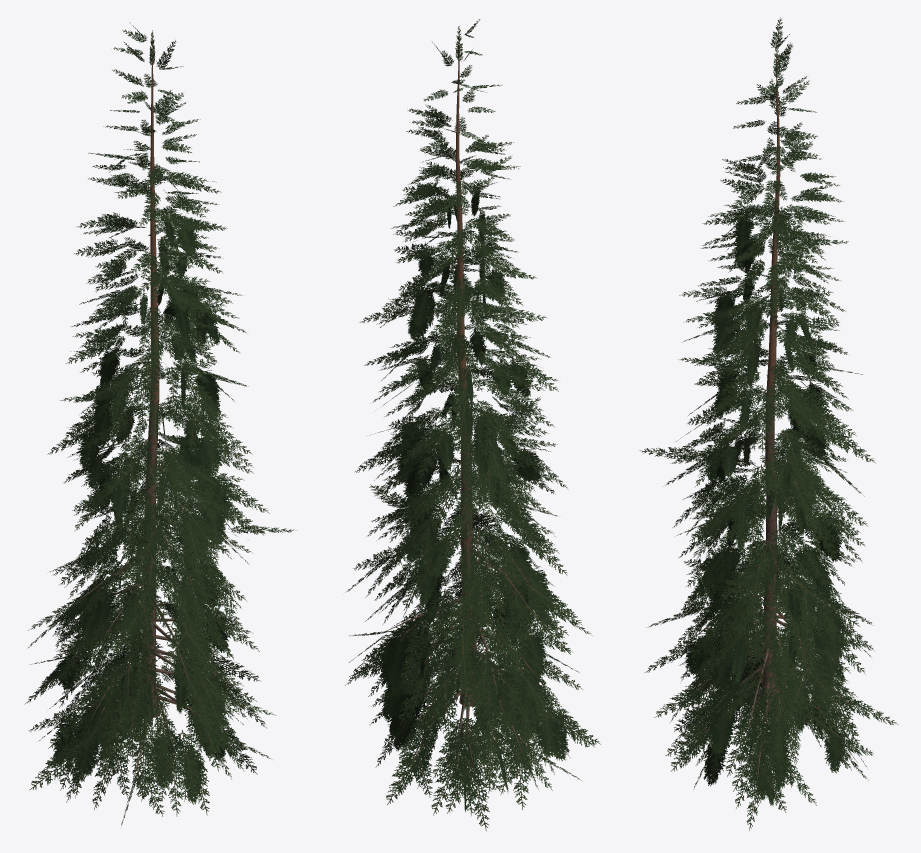
File: spruce_a_LOD1.fbx
3 views of the same model, side by side, from view 1: azimuth 30°, elevation 25°; view 2: azimuth 150°, elevation 25°; view 3: azimuth 270°, elevation 25° (orthographic).
Visible parts, largest first — view 1: Spruce_A_LOD1_Foliage, Spruce_A_LOD1_Bark; view 2: Spruce_A_LOD1_Foliage, Spruce_A_LOD1_Bark; view 3: Spruce_A_LOD1_Foliage, Spruce_A_LOD1_Bark.
Part boxes in pixels (x1=…): Spruce_A_LOD1_Foliage: x1=24, y1=22, x2=297, y2=825; Spruce_A_LOD1_Bark: x1=58, y1=30, x2=237, y2=781; Spruce_A_LOD1_Foliage: x1=345, y1=19, x2=600, y2=831; Spruce_A_LOD1_Bark: x1=382, y1=26, x2=562, y2=783; Spruce_A_LOD1_Foliage: x1=639, y1=17, x2=898, y2=830; Spruce_A_LOD1_Bark: x1=688, y1=44, x2=850, y2=780.
Bounding box in the file's own units: 10.45 × 30.19 × 9.59.
Materials: 2 (2 with a texture image).
